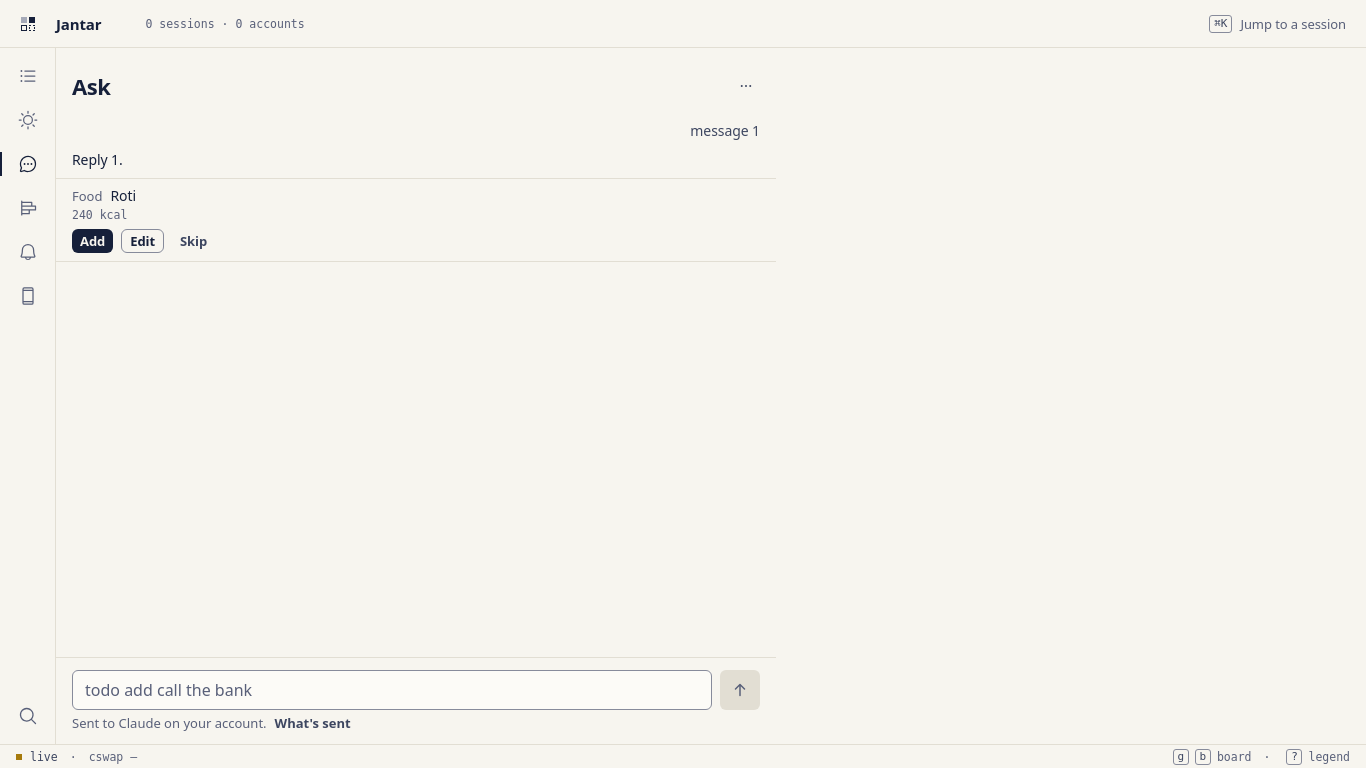
Test: cards › a refused Add shows the Mac's sentence in ember under that card, which keeps its state
The image size is (1366, 768).
Click the button with aria-label "Add: Roti" at coordinates (93, 241), box [72,229,113,253]
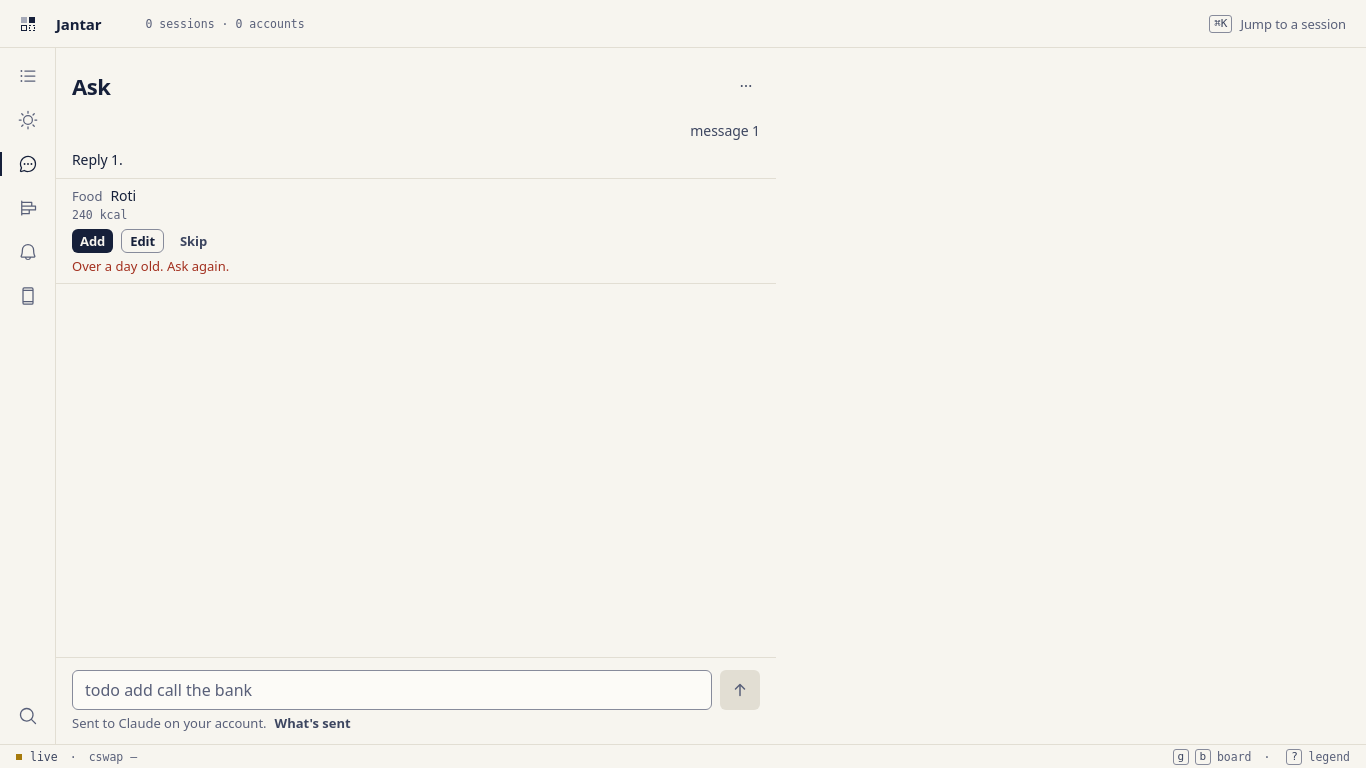
Expected: the list item shows "Roti", [110,186,136,205]
Expected: the message "Over a day old. Ask again." is shown, [72,257,229,275]
